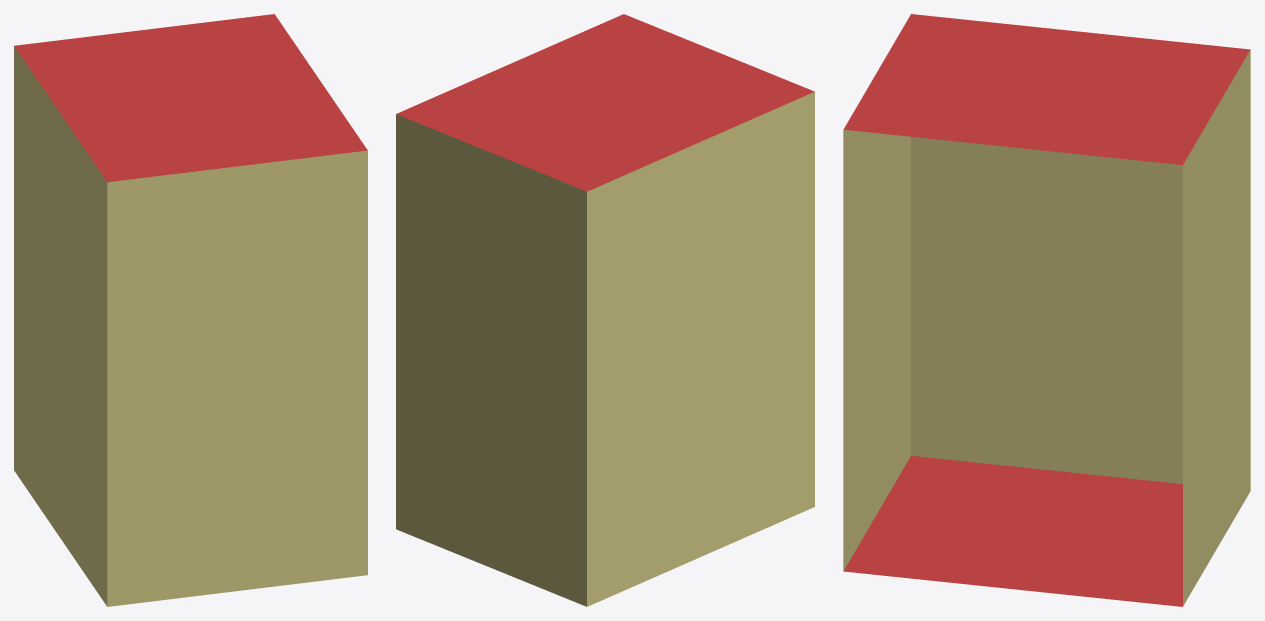
3 renders of one model, left to right at view 1: azimuth 30°, elevation 25°; view 2: azimuth 150°, elevation 25°; view 3: azimuth 270°, elevation 25°, orthographic. The views are drawn at different scales.
Visible parts, largest first — view 1: group_4, group_3; view 2: group_4, group_3; view 3: group_4, group_3, group_5.
Part boxes in pixels (box(x1,y1,x2,y2)): group_4: box(14, 46, 367, 606); group_3: box(14, 14, 367, 182); group_4: box(396, 92, 814, 606); group_3: box(396, 14, 814, 191); group_4: box(843, 50, 1250, 605); group_3: box(843, 14, 1250, 165); group_5: box(843, 456, 1182, 606).
Size of the model in its own units: 8.28 by 9.42 by 11.28.
